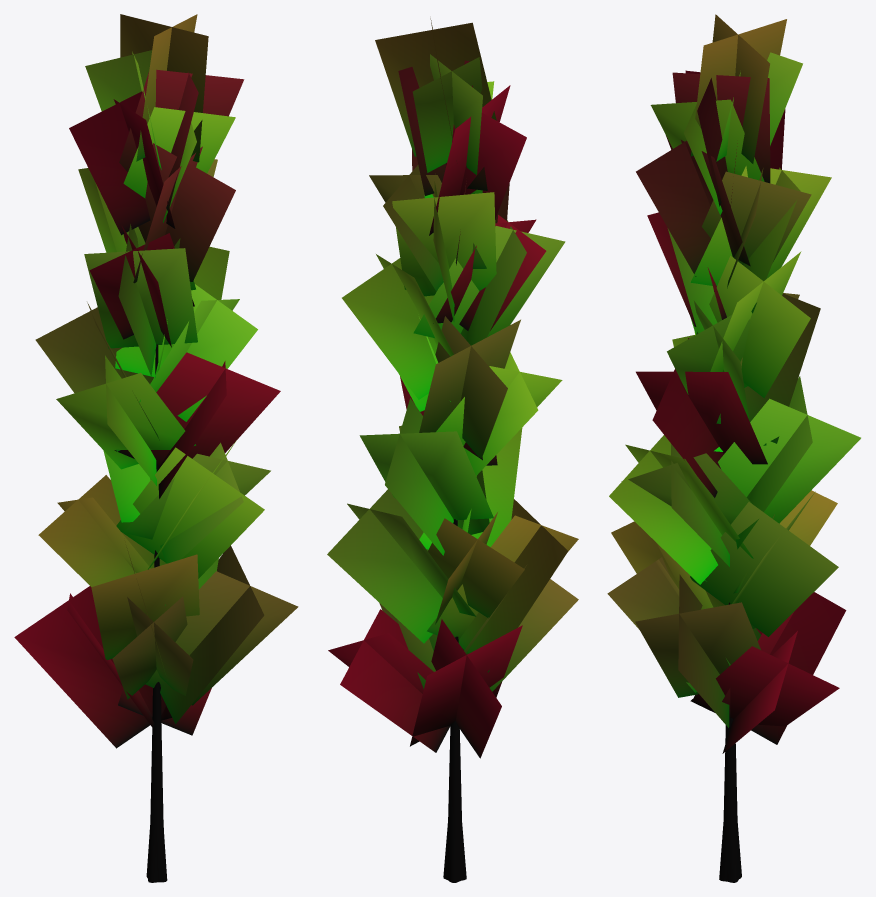
Rendered from S_Tree_11_3.fbx.
The picture shows the model from 3 angles, left to right: view 1: azimuth 30°, elevation 25°; view 2: azimuth 150°, elevation 25°; view 3: azimuth 270°, elevation 25°; orthographic projection.
Visible parts, largest first — view 1: S_Tree_11_3; view 2: S_Tree_11_3; view 3: S_Tree_11_3.
Boxes of the visible parts, x1=… form: S_Tree_11_3: x1=14, y1=14, x2=298, y2=882; S_Tree_11_3: x1=327, y1=18, x2=578, y2=882; S_Tree_11_3: x1=607, y1=14, x2=860, y2=882.
Size of the model in its own units: 915 by 3529 by 947.
